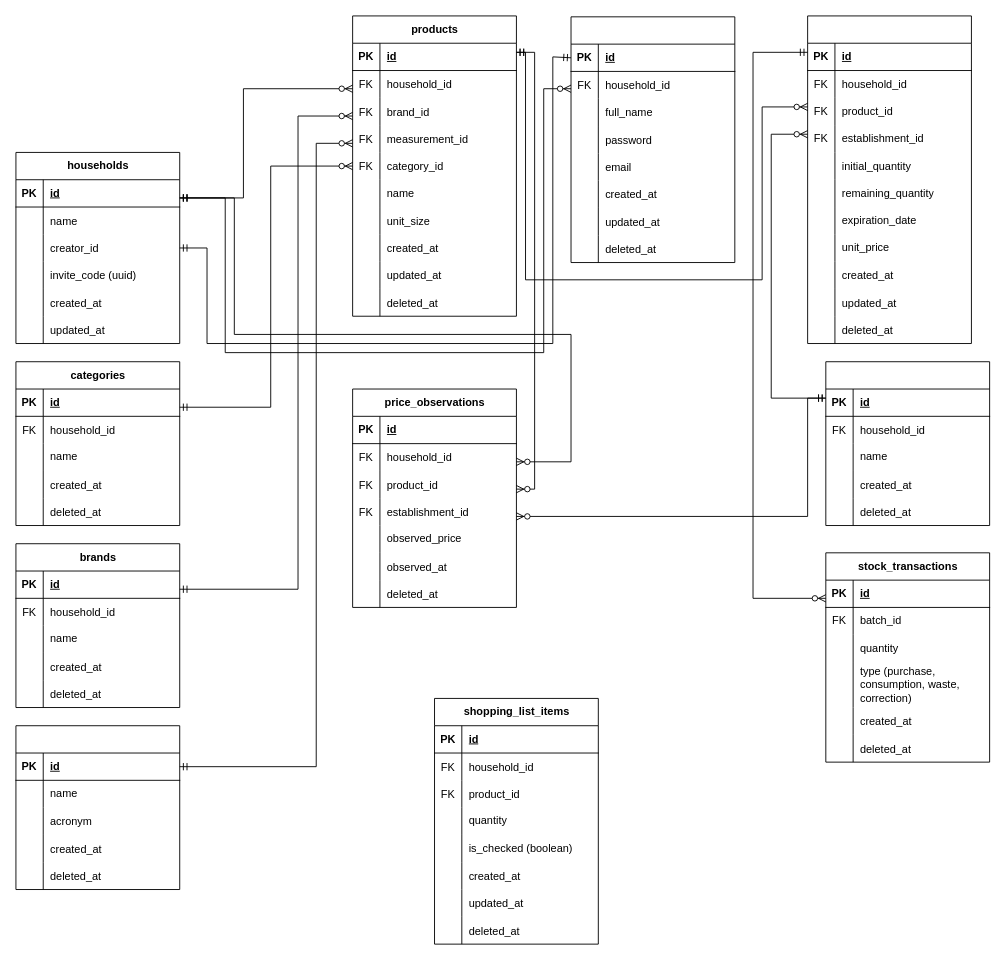
Some shapes in this 1006 by 960 pixel diagram are drawn without their labels. Each missing label, with the box of its shape:
establishments: (825, 361, 990, 526)
stock_batches: (807, 15, 971, 344)
unit_measurements: (15, 725, 180, 890)
users: (570, 16, 735, 263)
